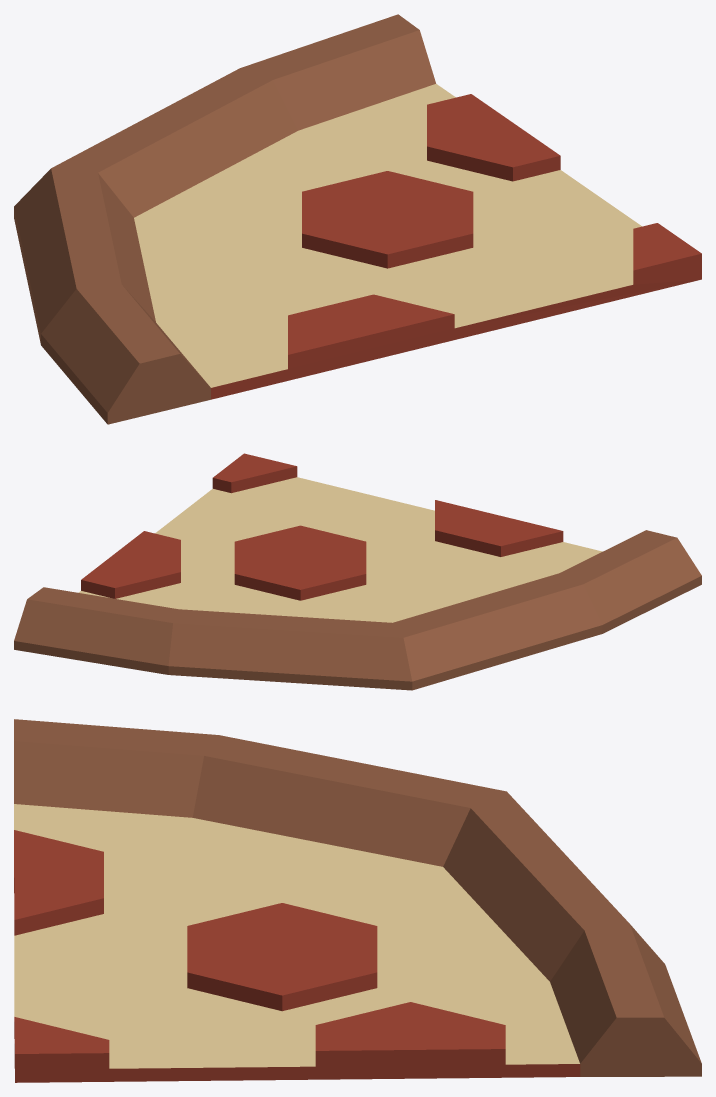
File: Pizza.fbx
3 renders of one model, top to bottom at view 1: azimuth 30°, elevation 25°; view 2: azimuth 150°, elevation 25°; view 3: azimuth 270°, elevation 25°, orthographic. The views are drawn at different scales.
Visible parts, largest first — view 1: Pizza; view 2: Pizza; view 3: Pizza.
Boxes of the visible parts, x1,y1,x2,y2 form: Pizza: (14,14,701,424); Pizza: (14,453,701,690); Pizza: (14,719,701,1082).
Bounding box in the file's own units: 0.2521 × 0.279 × 0.024.
